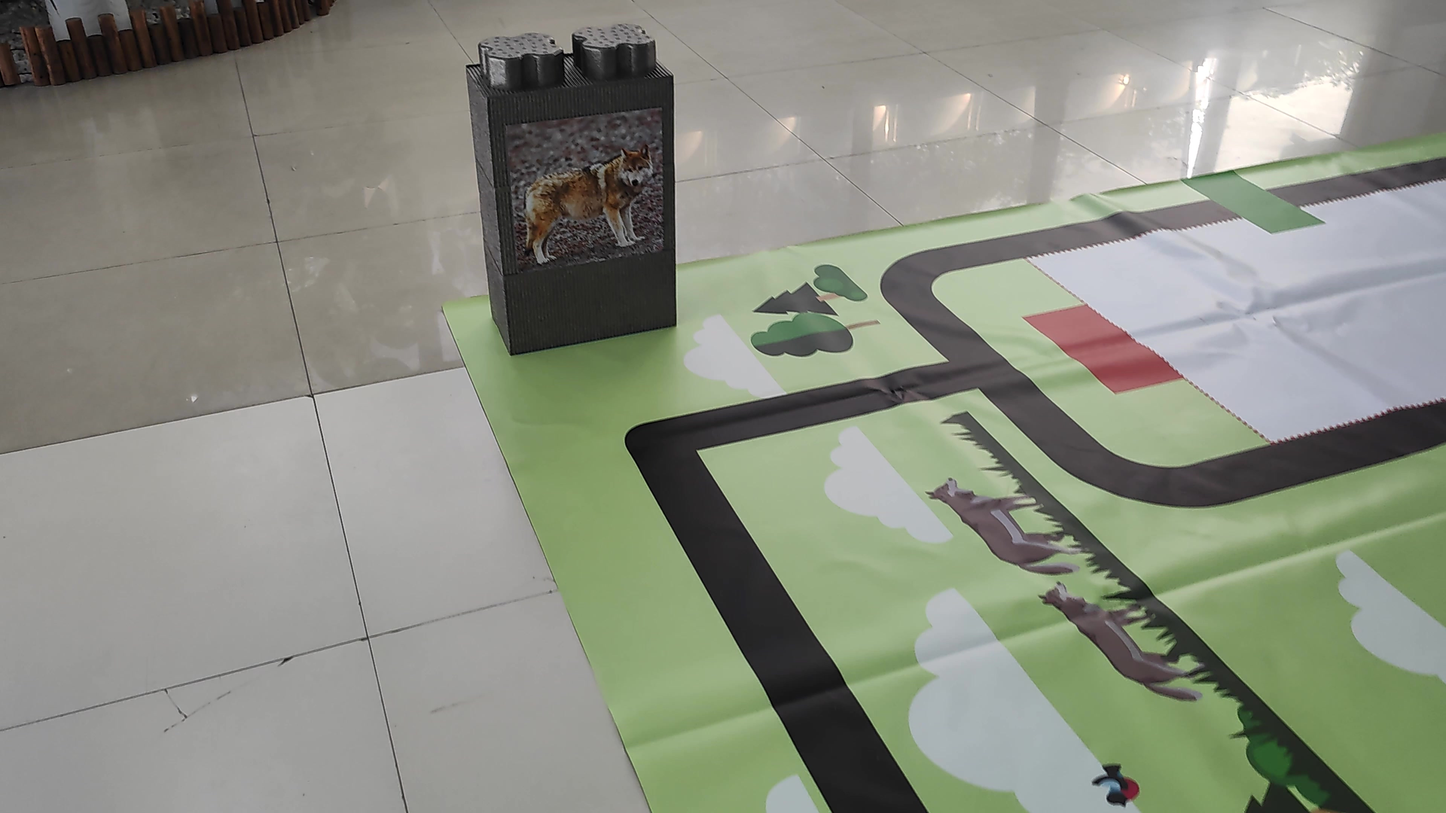wolf: (506, 125, 664, 253)
